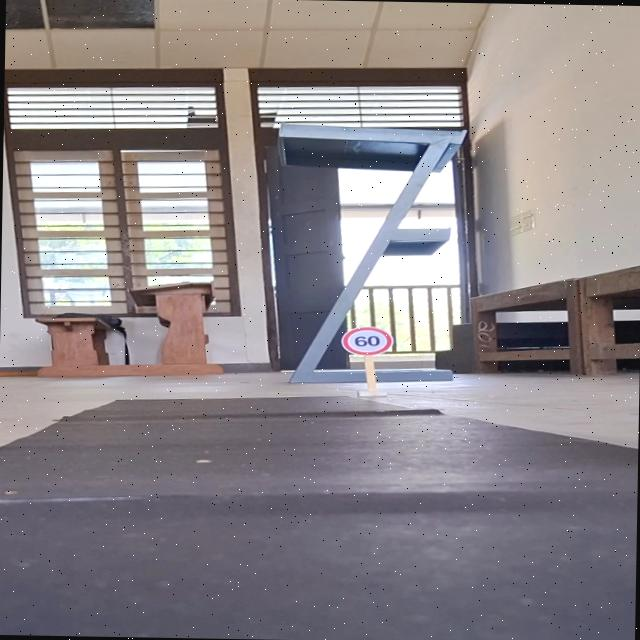Speed60: (338, 326, 394, 356)
